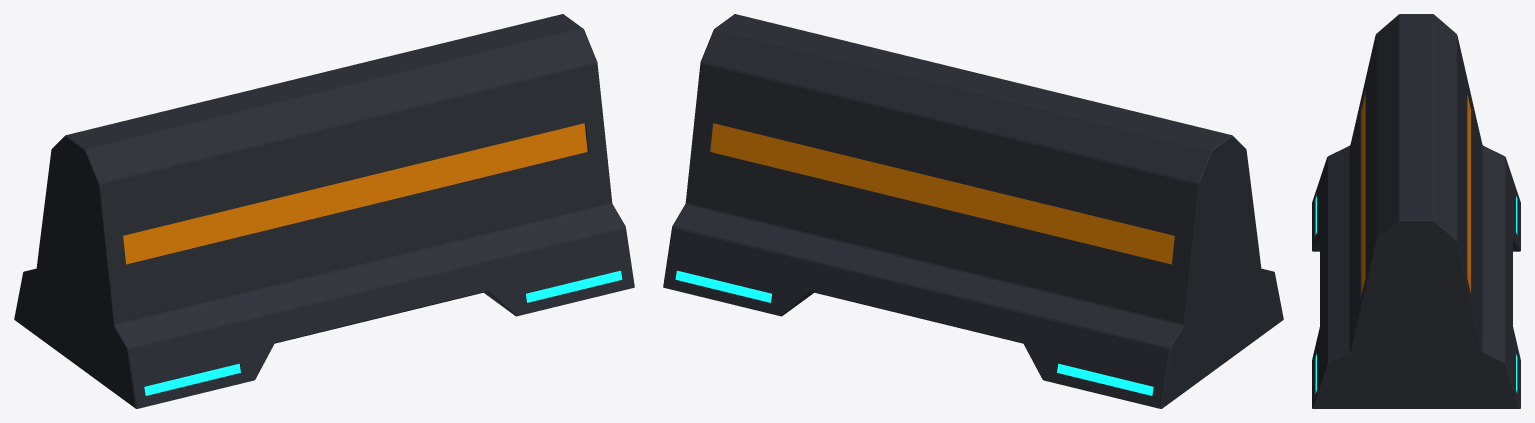
File: SM_Straight_Barrier.fbx
3 views of the same model, side by side, from view 1: azimuth 30°, elevation 25°; view 2: azimuth 150°, elevation 25°; view 3: azimuth 270°, elevation 25° (orthographic). The views are drawn at different scales.
Visible parts, largest first — view 1: Cube.001; view 2: Cube.001; view 3: Cube.001.
Boxes of the visible parts, bbox=[...] form: Cube.001: bbox=[14, 14, 634, 408]; Cube.001: bbox=[663, 14, 1283, 408]; Cube.001: bbox=[1312, 14, 1520, 408].
Size of the model in its own units: 100 by 42.47 by 42.64.
